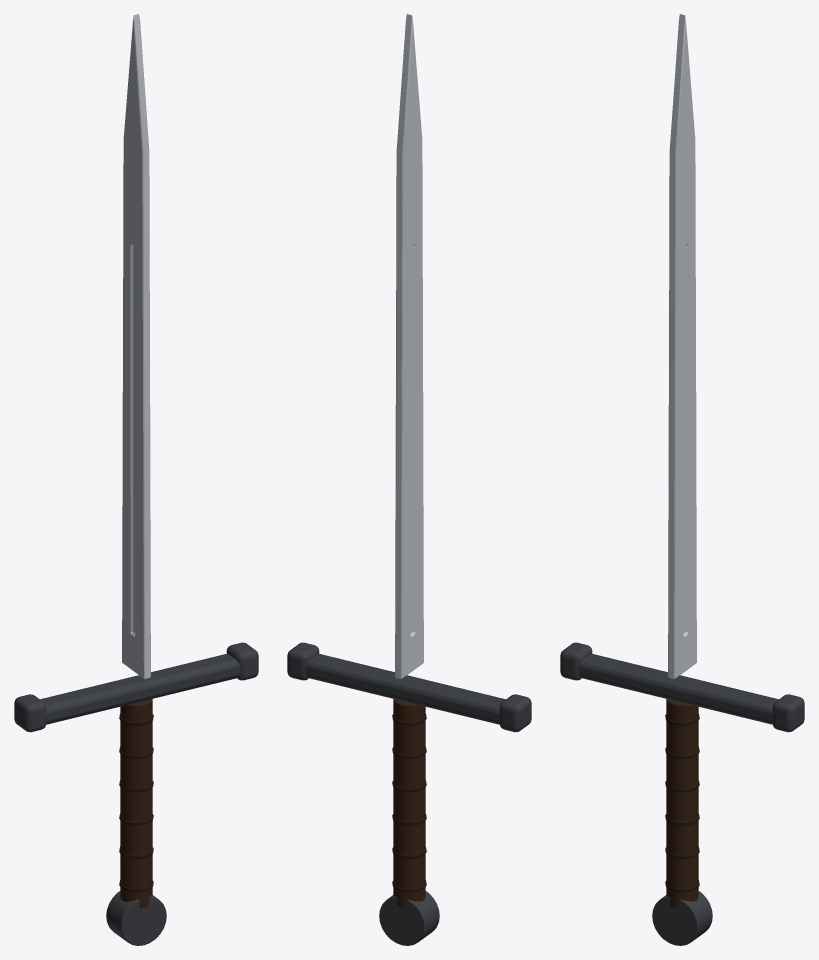
The model's file is doubleedge.glb.
3 renders of one model, left to right at view 1: azimuth 30°, elevation 25°; view 2: azimuth 150°, elevation 25°; view 3: azimuth 330°, elevation 25°, orthographic.
Parts seen in each view (by area): view 1: blade, grip, guard, pommel, guard_tip-1, guard_tip1; view 2: blade, grip, guard, pommel, guard_tip-1, guard_tip1; view 3: blade, grip, guard, pommel, guard_tip1, guard_tip-1.
Part boxes in pixels (left/top/right/bottom): blade: left=122, top=14, right=150, bottom=679; grip: left=120, top=699, right=152, bottom=908; guard: left=40, top=654, right=240, bottom=724; pommel: left=106, top=891, right=166, bottom=945; guard_tip-1: left=14, top=694, right=46, bottom=732; guard_tip1: left=226, top=642, right=258, bottom=680; blade: left=395, top=14, right=423, bottom=679; grip: left=393, top=699, right=425, bottom=908; guard: left=305, top=654, right=505, bottom=724; pommel: left=379, top=891, right=439, bottom=945; guard_tip-1: left=499, top=694, right=531, bottom=732; guard_tip1: left=287, top=642, right=319, bottom=680; blade: left=668, top=14, right=696, bottom=679; grip: left=666, top=699, right=698, bottom=908; guard: left=578, top=654, right=778, bottom=724; pommel: left=652, top=891, right=712, bottom=945; guard_tip1: left=772, top=694, right=804, bottom=732; guard_tip-1: left=560, top=642, right=592, bottom=680.
Size of the model in its own units: 0.264 by 1 by 0.044.
